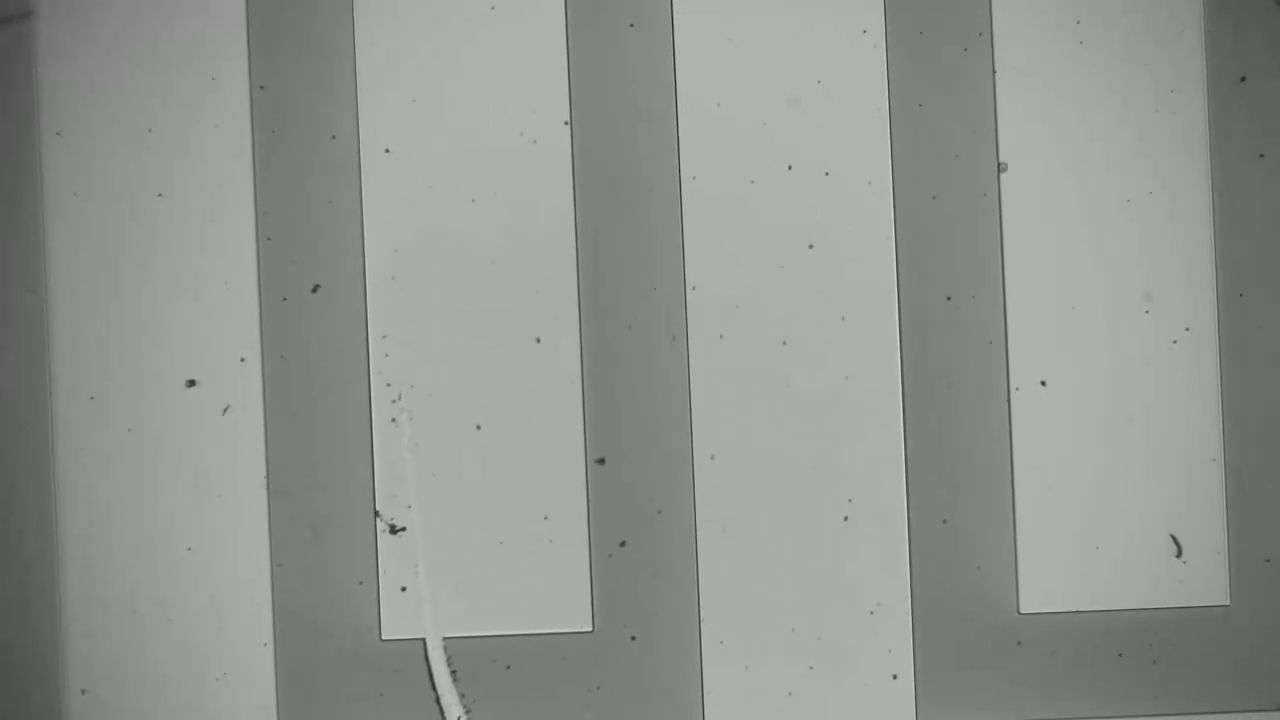Short_circuit: (402, 604, 497, 720)
